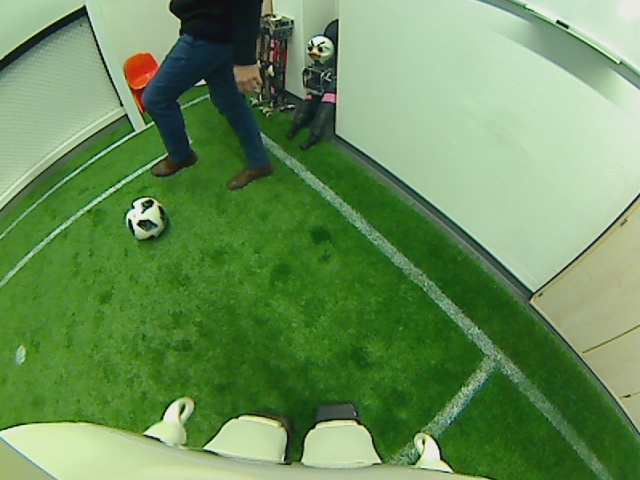ball: (122, 195, 170, 240)
